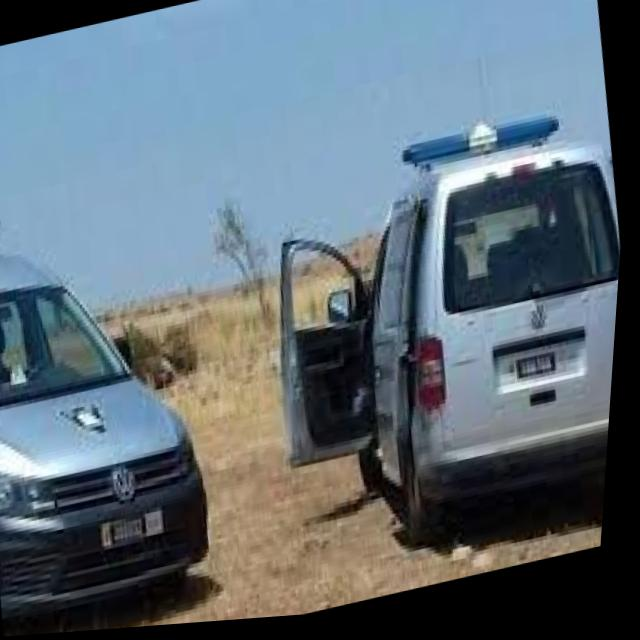gendarme car: (0, 146, 250, 640)
